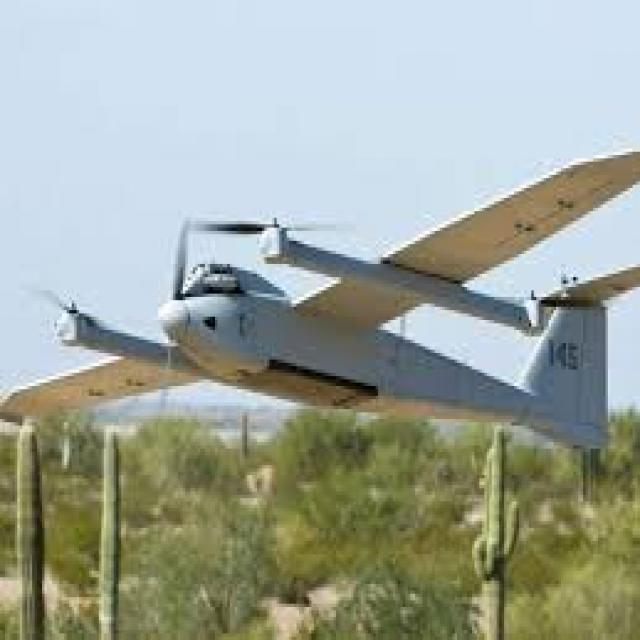iha: (1, 146, 639, 460)
